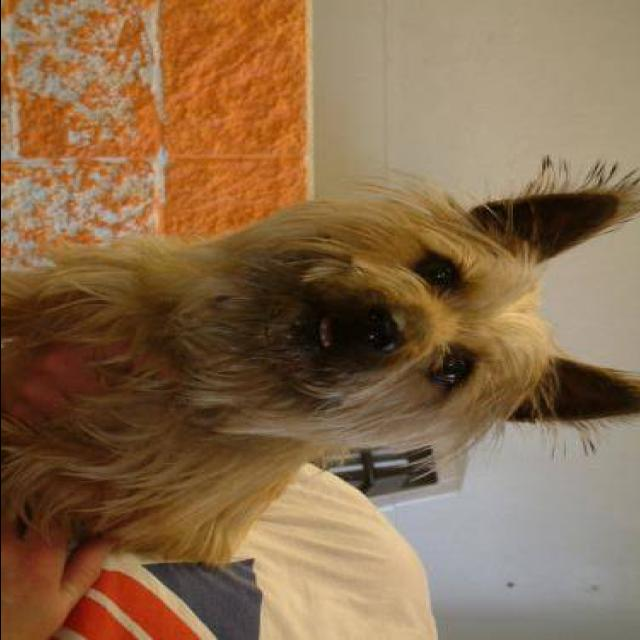dog: (0, 144, 640, 590)
